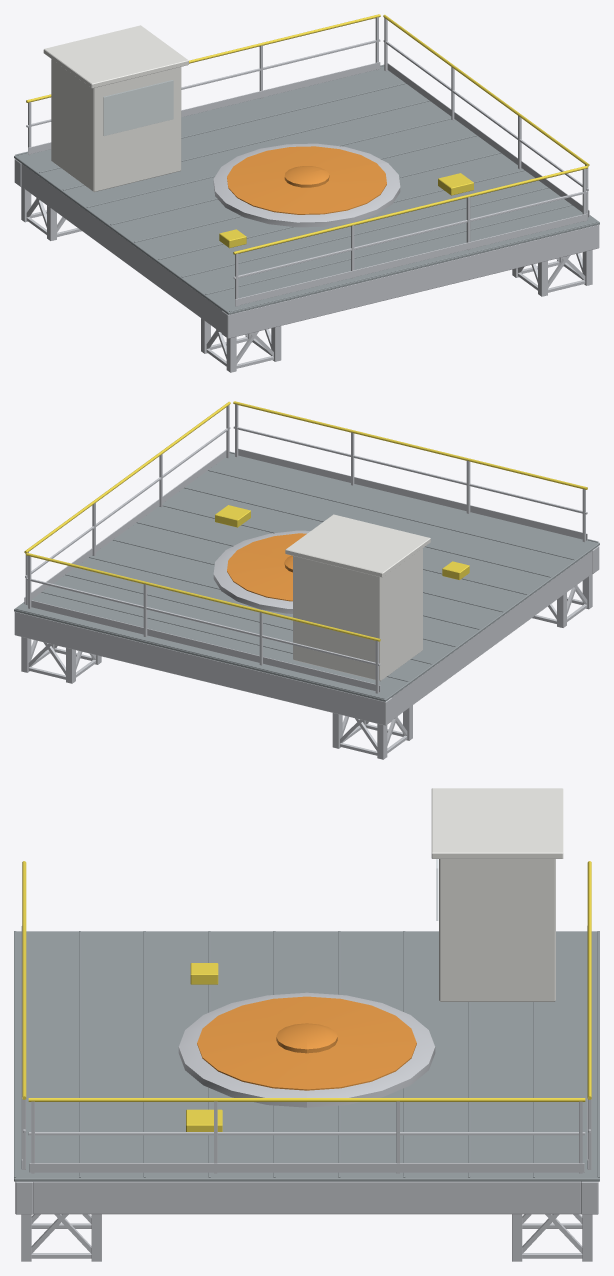
3 views of the same model, one above another, from view 1: azimuth 30°, elevation 25°; view 2: azimuth 150°, elevation 25°; view 3: azimuth 270°, elevation 25° (orthographic). The views are drawn at different scales.
Visible parts, largest first — view 1: drill-floor-rotary-table, rotary-table; view 2: drill-floor-rotary-table, rotary-table; view 3: drill-floor-rotary-table, rotary-table.
Boxes of the visible parts, x1,y1,x2,y2 form: drill-floor-rotary-table: [14, 14, 599, 372]; rotary-table: [227, 146, 386, 214]; drill-floor-rotary-table: [14, 401, 599, 759]; rotary-table: [227, 533, 306, 601]; drill-floor-rotary-table: [14, 788, 599, 1261]; rotary-table: [197, 996, 416, 1090].
Size of the model in its own units: 8 by 3.62 by 8.
